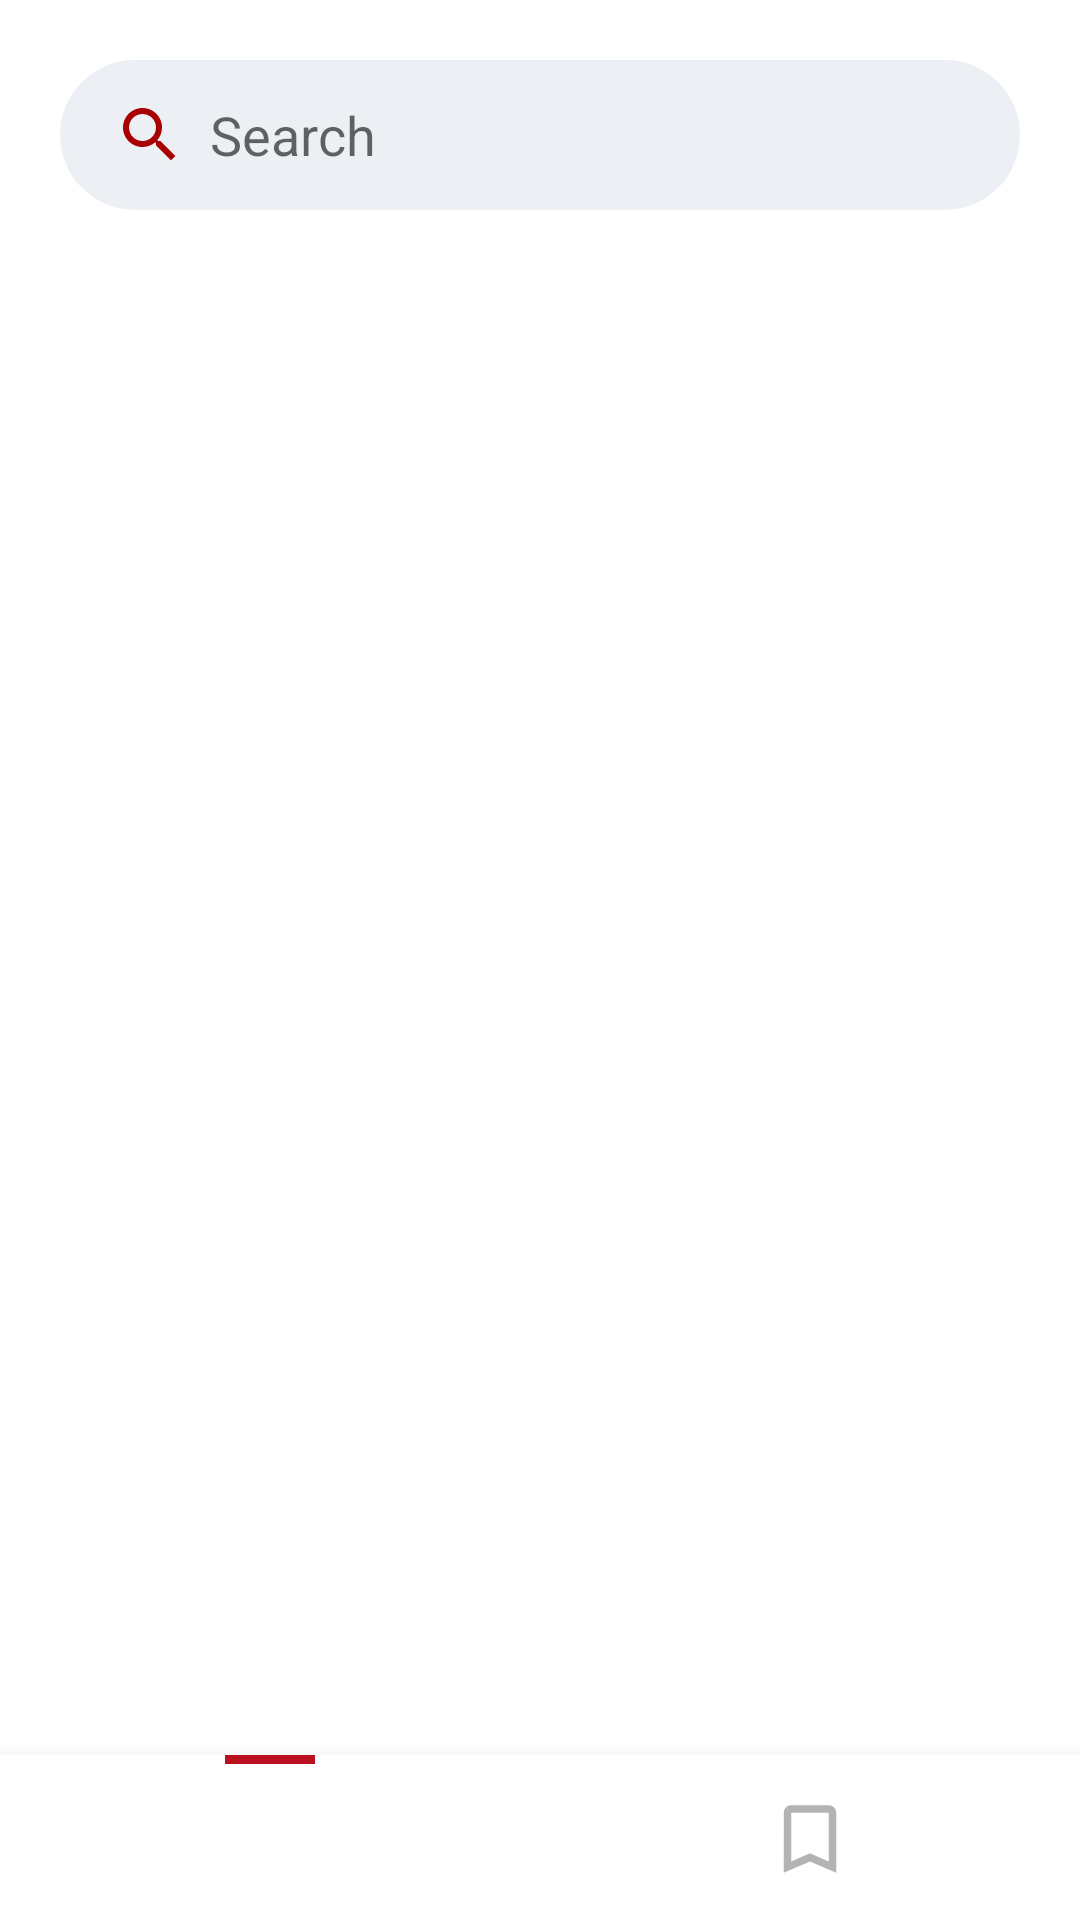

Point at icon controls on the screen. Image size 1080 x 1920, points as point (x, y).
bookmark: point (810, 1839)
